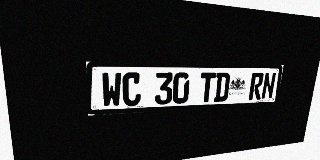0: (172, 72, 190, 104)
3: (155, 72, 173, 105)
C: (122, 72, 141, 107)
D: (214, 72, 230, 102)
N: (261, 73, 276, 99)
R: (248, 73, 264, 100)
T: (199, 72, 216, 103)
W: (101, 72, 122, 108)
